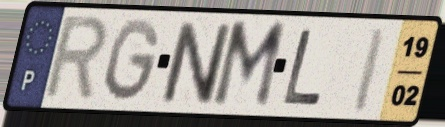G: (102, 16, 163, 105)
I: (348, 24, 391, 115)
L: (280, 27, 326, 108)
M: (208, 20, 290, 113)
N: (159, 19, 234, 107)
R: (38, 14, 112, 105)
